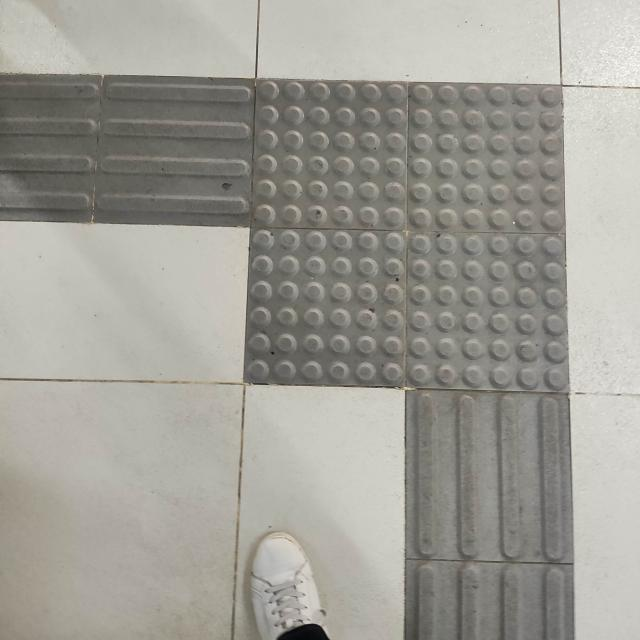kiri: (4, 10, 614, 487)
